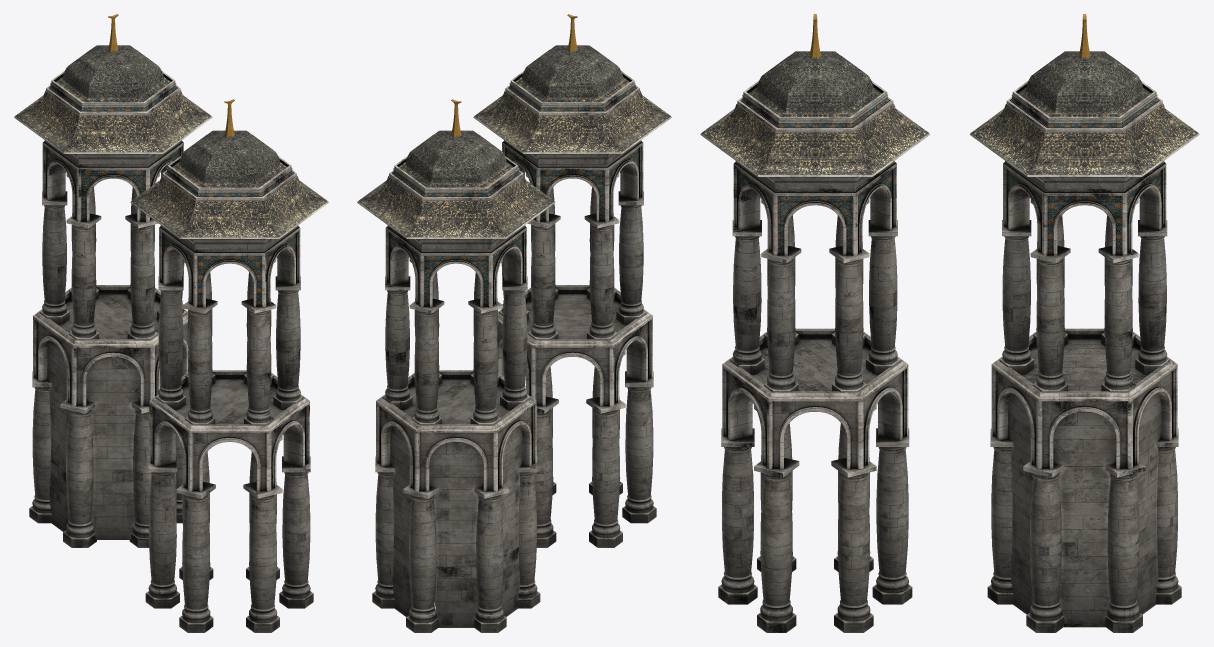
The model's file is dxb_eurasian_towers.glb.
The picture shows the model from 3 angles, left to right: view 1: azimuth 30°, elevation 25°; view 2: azimuth 150°, elevation 25°; view 3: azimuth 270°, elevation 25°; orthographic projection. The views are drawn at different scales.
Visible parts, largest first — view 1: OrientalTowerO-02_2, OrientalTowerO-01_0, OrientalTowerU-01_1, OrientalTowerU-02_3; view 2: OrientalTowerU-01_1, OrientalTowerO-01_0, OrientalTowerO-02_2, OrientalTowerU-02_3; view 3: OrientalTowerU-01_1, OrientalTowerO-01_0, OrientalTowerO-02_2, OrientalTowerU-02_3.
Boxes of the visible parts, left/top/right/bottom form: OrientalTowerO-02_2: left=130, top=99, right=328, bottom=424; OrientalTowerO-01_0: left=14, top=14, right=212, bottom=339; OrientalTowerU-01_1: left=29, top=285, right=188, bottom=547; OrientalTowerU-02_3: left=145, top=370, right=313, bottom=632; OrientalTowerU-01_1: left=372, top=370, right=540, bottom=632; OrientalTowerO-01_0: left=357, top=99, right=555, bottom=424; OrientalTowerO-02_2: left=473, top=14, right=671, bottom=339; OrientalTowerU-02_3: left=497, top=285, right=656, bottom=547; OrientalTowerU-01_1: left=987, top=328, right=1181, bottom=632; OrientalTowerO-01_0: left=970, top=14, right=1199, bottom=392; OrientalTowerO-02_2: left=700, top=14, right=929, bottom=392; OrientalTowerU-02_3: left=718, top=328, right=912, bottom=632.
Bounding box in the file's own units: 7.6 × 24.49 × 19.07.
Materials: 6 (6 with a texture image).
